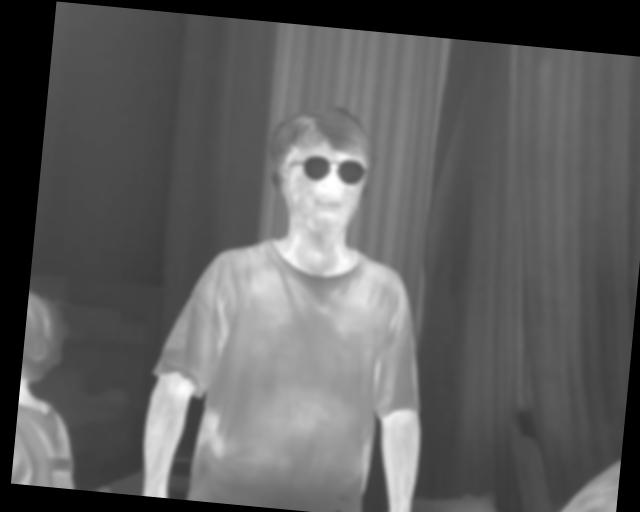face: (263, 101, 375, 238)
